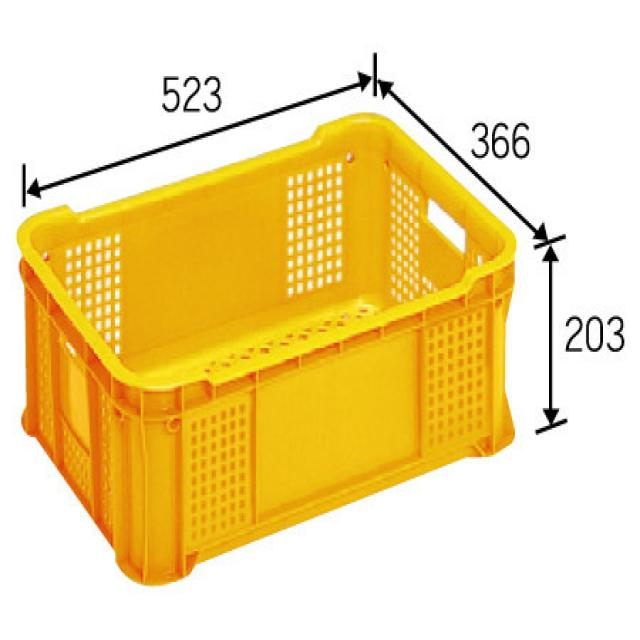basket: (0, 51, 588, 613)
